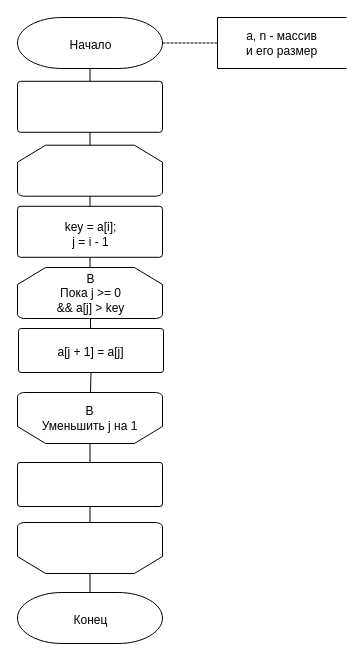
Some shapes in this 364 by 661 pixel diagram are drawn without their labels. Each missing label, with the centre of its shape:
"A Пока i < n" goes at (x=89, y=170).
"A Увеличить i на 1" goes at (x=89, y=548).
"a[j + 1] = key" goes at (x=89, y=484).
"i = 1" goes at (x=89, y=106).
